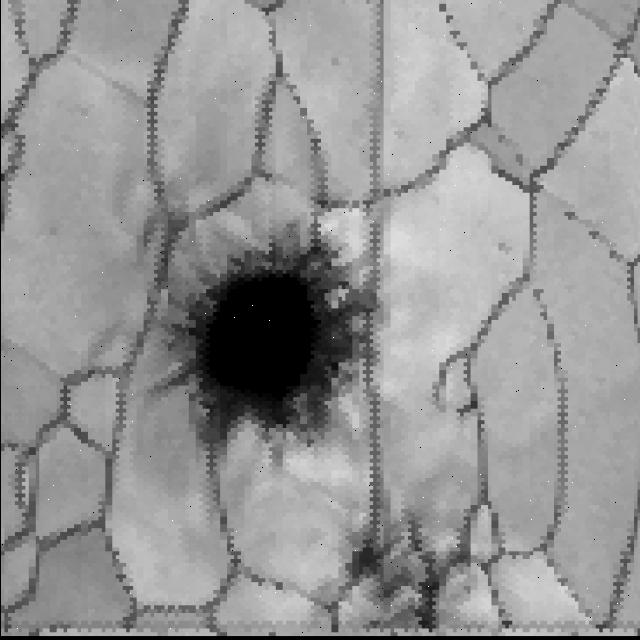good_void: (136, 213, 394, 482), (323, 512, 464, 628)
